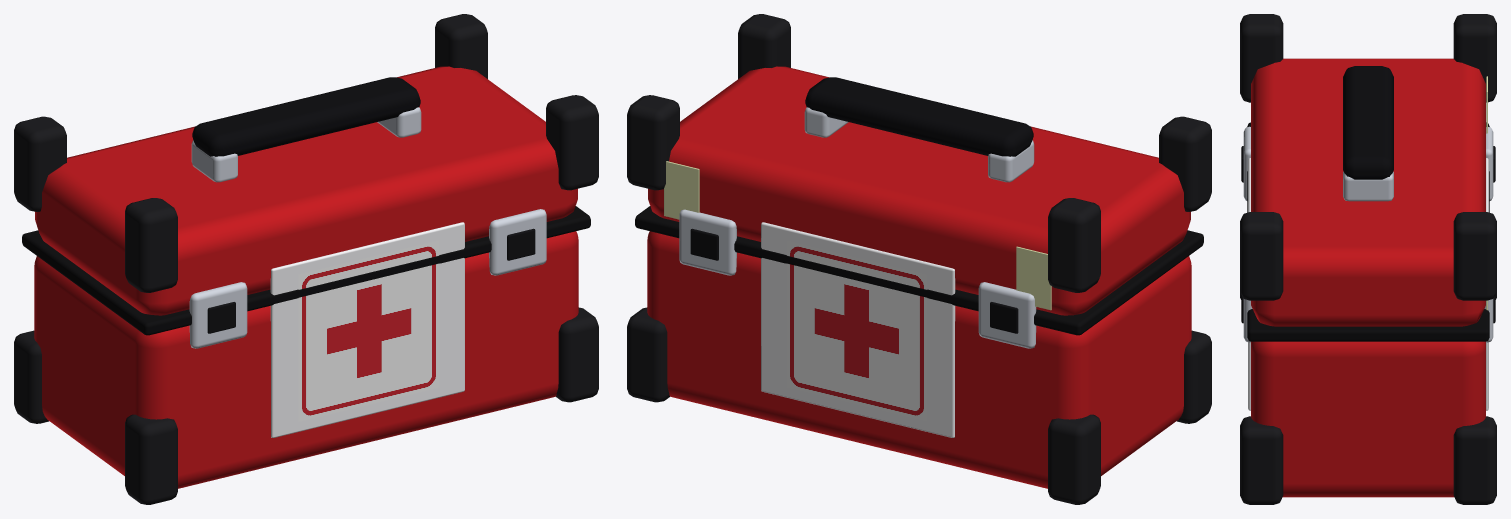
Rendered from MedicalKit.obj.
3 renders of one model, left to right at view 1: azimuth 30°, elevation 25°; view 2: azimuth 150°, elevation 25°; view 3: azimuth 270°, elevation 25°, orthographic. The views are drawn at different scales.
Size of the model in its own units: 0.261 by 0.1635 by 0.131.
